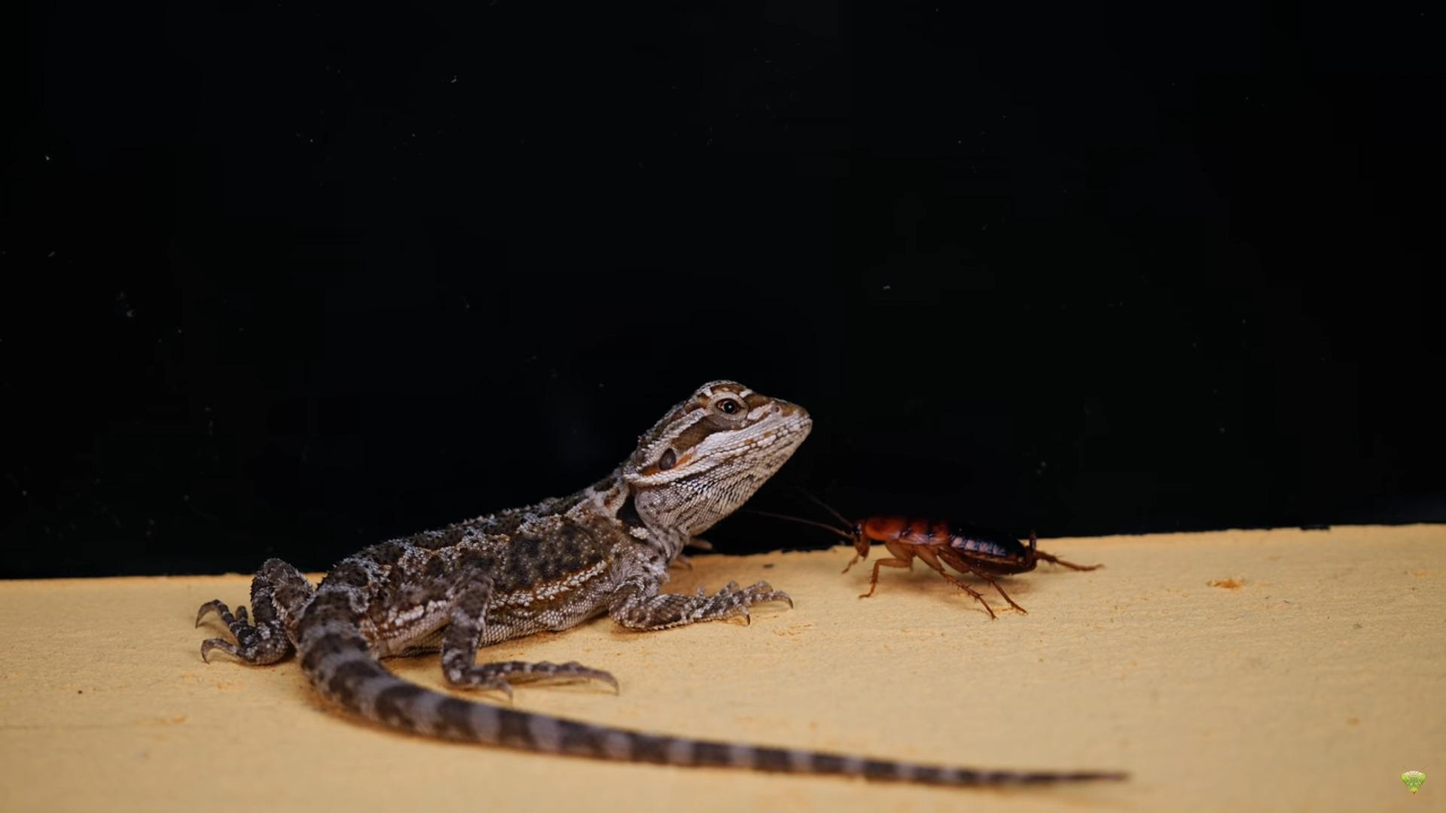cockroach: (811, 493, 1094, 626)
lizard: (198, 373, 916, 788)
